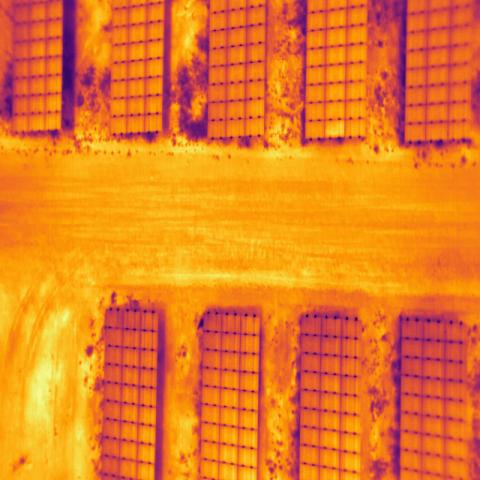fault: (324, 118, 345, 138)
